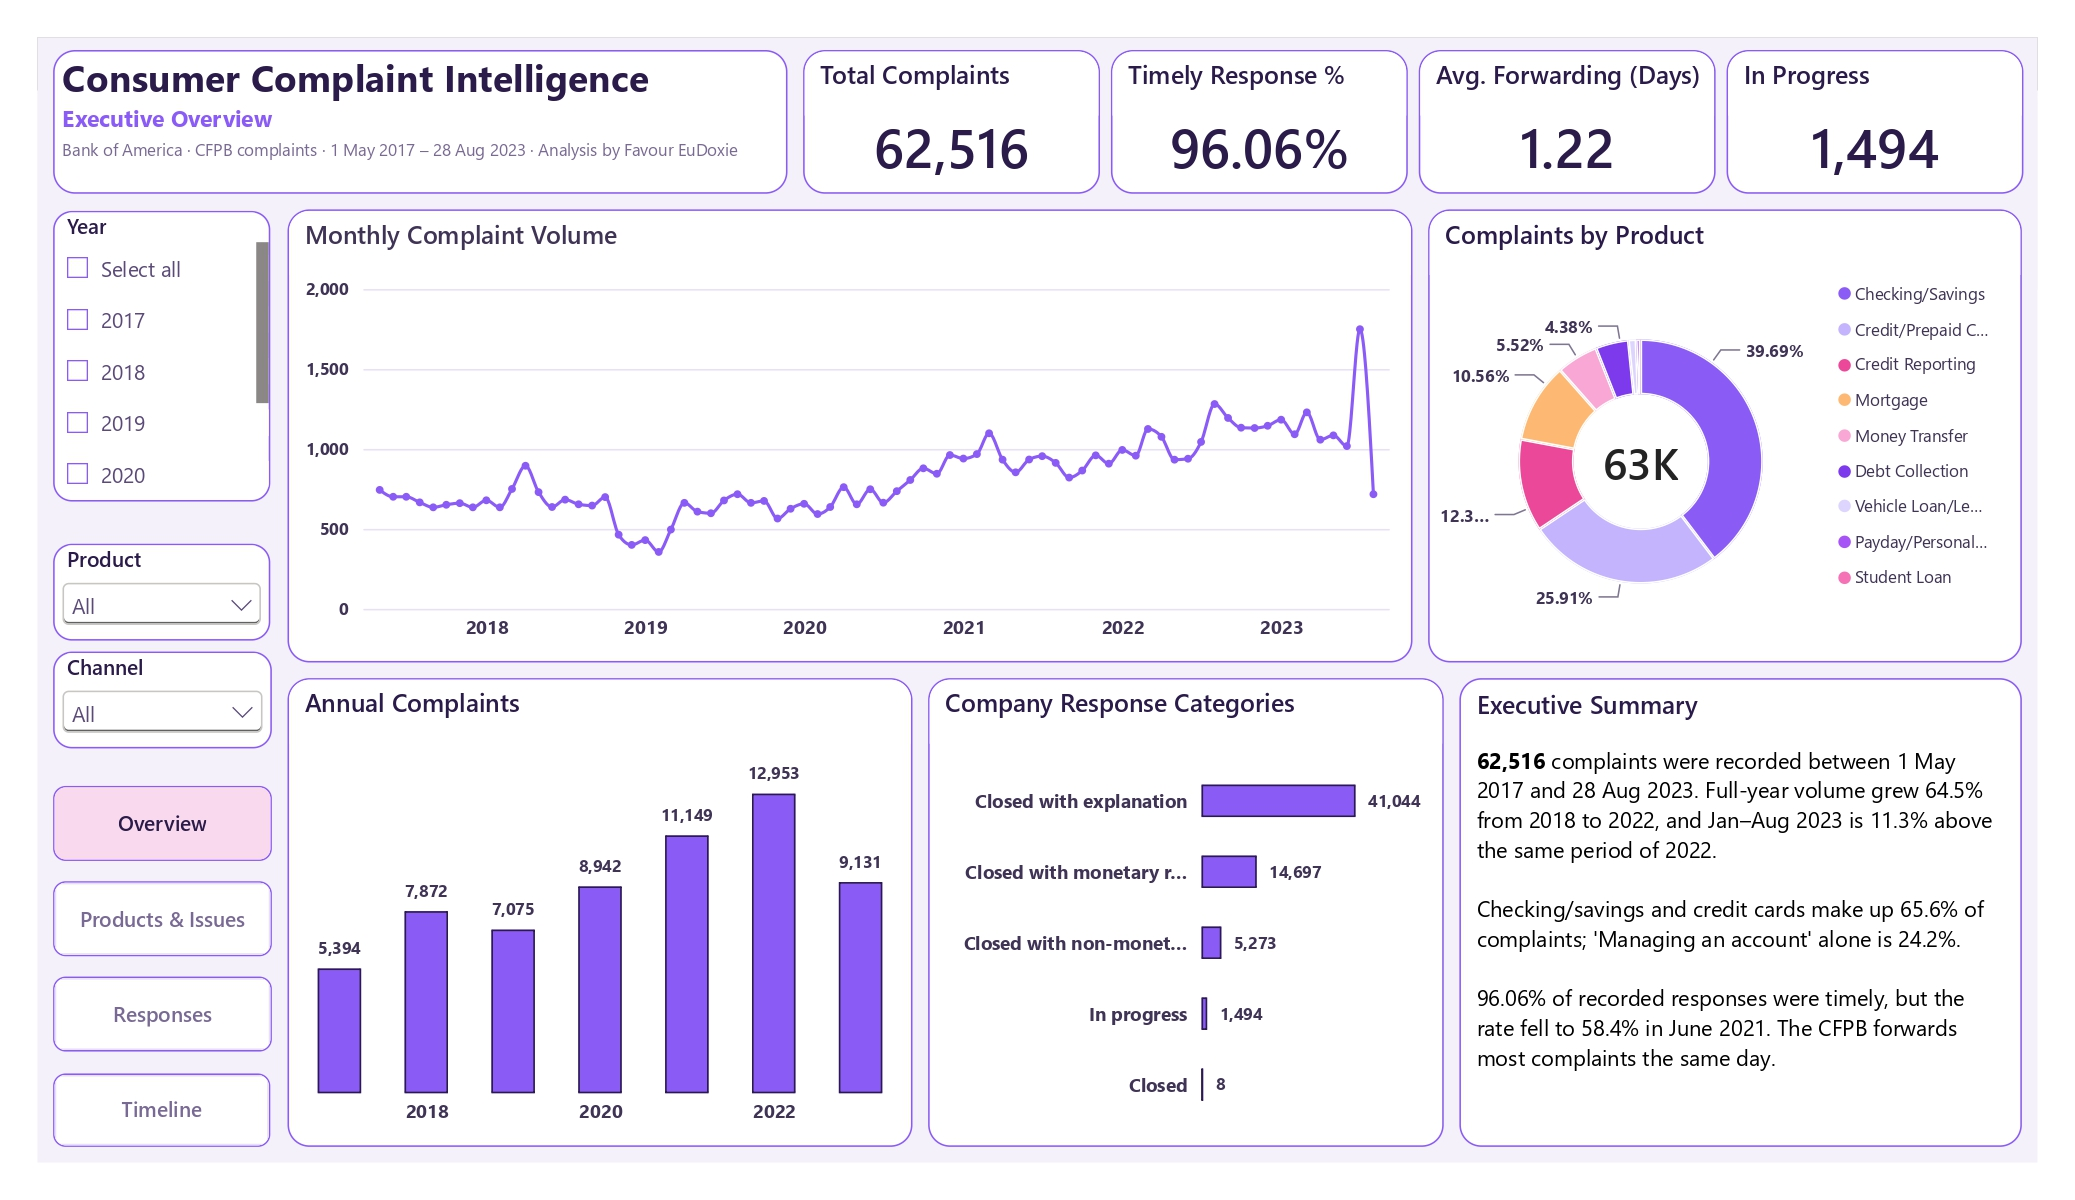

The page's visual inventory and layout, read from the dashboard file:
{"tool":"powerbi","page":{"name":"Executive Overview","canvas":[1280,720],"ordinal":0},"visuals":[{"type":"textbox","box":[10,8,470,92],"z":1000},{"type":"card","title":"Total Complaints","fields":{"Values":["Complaints.Total Complaints"]},"box":[490,8,190,92],"z":2000},{"type":"card","title":"Timely Response %","fields":{"Values":["Complaints.Timely Response %"]},"box":[687,8,190,92],"z":3000},{"type":"card","title":"Avg. Forwarding (Days)","fields":{"Values":["Complaints.Avg Forwarding Days"]},"box":[884,8,190,92],"z":4000},{"type":"card","title":"In Progress","fields":{"Values":["Complaints.In Progress Complaints"]},"box":[1081,8,190,92],"z":5000},{"type":"slicer","fields":{"Values":["Complaints.Year"]},"box":[10.1,110.7,139.4,186.8],"z":6000},{"type":"slicer","fields":{"Values":["Complaints.Product Short"]},"box":[10.1,323.8,139.4,61.8],"z":7000},{"type":"slicer","fields":{"Values":["Complaints.Submitted via"]},"box":[10.1,392.8,140,62],"z":8000},{"type":"actionButton","box":[10.1,479,140,48],"z":9000},{"type":"actionButton","box":[10.1,540.2,140,48],"z":10000},{"type":"actionButton","box":[10.1,601.4,140,48],"z":11000},{"type":"actionButton","box":[10.1,662.6,139.4,47.4],"z":12000},{"type":"lineChart","title":"Monthly Complaint Volume","fields":{"Category":["Complaints.Year Month"],"Y":["Complaints.Total Complaints"]},"box":[160,110,720,290],"z":14000},{"type":"donutChart","title":"Complaints by Product","fields":{"Category":["Complaints.Product Short"],"Y":["Complaints.Total Complaints"]},"box":[890,110,380,290],"z":15000},{"type":"clusteredColumnChart","title":"Annual Complaints","fields":{"Category":["Complaints.Year"],"Y":["Complaints.Total Complaints"]},"box":[160,410,400,300],"z":16000},{"type":"clusteredBarChart","title":"Company Response Categories","fields":{"Category":["Complaints.Company response to consumer"],"Y":["Complaints.Total Complaints"]},"box":[570,410,330,300],"z":17000},{"type":"textbox","title":"Executive Summary","box":[910,410,360,300],"z":18000}]}

Visuals, with their boxes on the page's 1280x720 design canvas (x1, y1, x2, y2). These are canvas units, not pixel positions in the 2075x1200 screenshot, which may show the page scaled, cropped or inside an application window:
textbox: bbox(10, 8, 480, 100)
"Total Complaints" card: bbox(490, 8, 680, 100)
"Timely Response %" card: bbox(687, 8, 877, 100)
"Avg. Forwarding (Days)" card: bbox(884, 8, 1074, 100)
"In Progress" card: bbox(1081, 8, 1271, 100)
slicer - Complaints.Year: bbox(10, 111, 150, 298)
slicer - Complaints.Product Short: bbox(10, 324, 150, 386)
slicer - Complaints.Submitted via: bbox(10, 393, 150, 455)
actionButton: bbox(10, 479, 150, 527)
actionButton: bbox(10, 540, 150, 588)
actionButton: bbox(10, 601, 150, 649)
actionButton: bbox(10, 663, 150, 710)
"Monthly Complaint Volume" lineChart: bbox(160, 110, 880, 400)
"Complaints by Product" donutChart: bbox(890, 110, 1270, 400)
"Annual Complaints" clusteredColumnChart: bbox(160, 410, 560, 710)
"Company Response Categories" clusteredBarChart: bbox(570, 410, 900, 710)
"Executive Summary" textbox: bbox(910, 410, 1270, 710)
